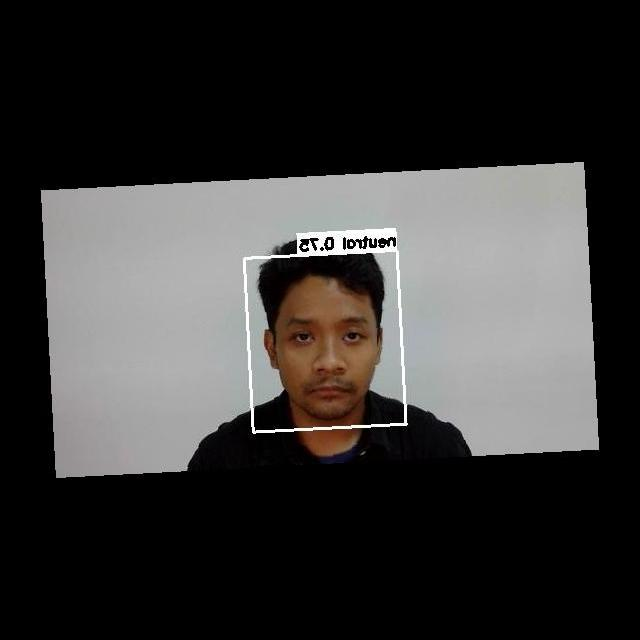Natural: (282, 310, 385, 410)
